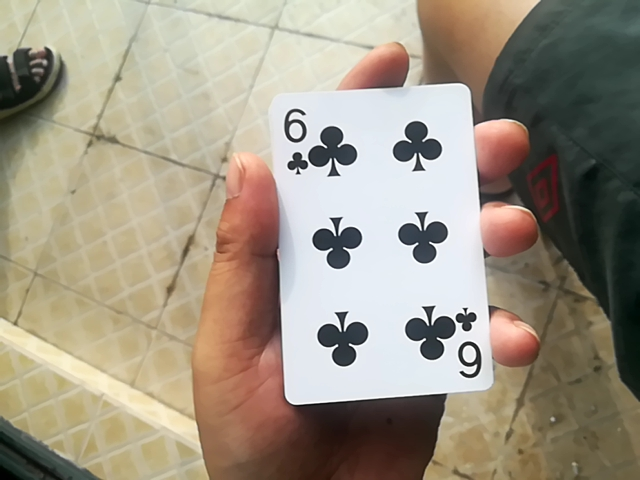mh 6: (266, 87, 509, 410)
